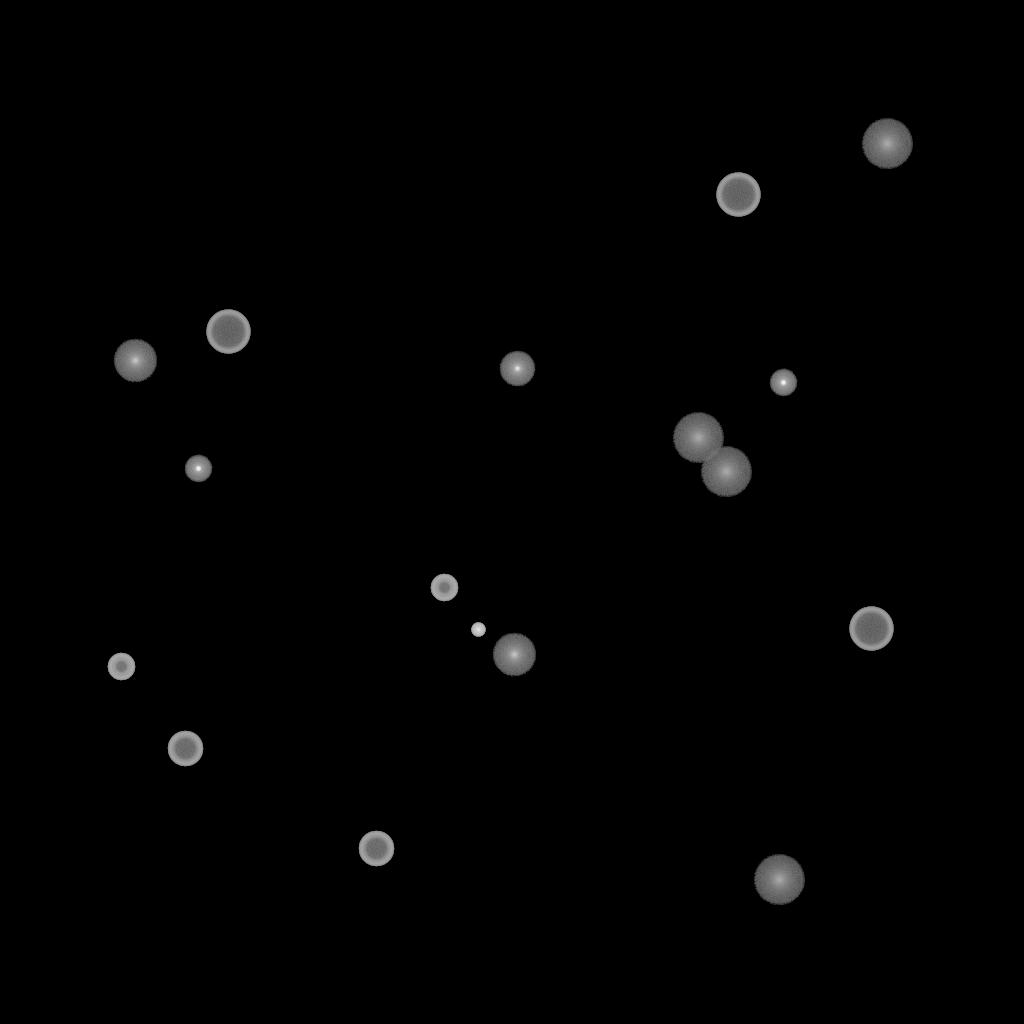depth:-10: (769, 369, 797, 397), (184, 455, 212, 483)
depth:-30: (471, 623, 485, 637)
depth:-50: (107, 653, 135, 681), (430, 574, 458, 602)
depth:-60: (167, 731, 203, 767), (358, 831, 394, 867)
depth:-70: (849, 607, 893, 651), (206, 310, 250, 354), (716, 173, 760, 217)
depth:0: (499, 351, 535, 387)
depth:10: (492, 633, 536, 677), (113, 339, 157, 383)
depth:20: (753, 855, 805, 905), (861, 119, 913, 169), (672, 413, 724, 463), (700, 447, 752, 497)
